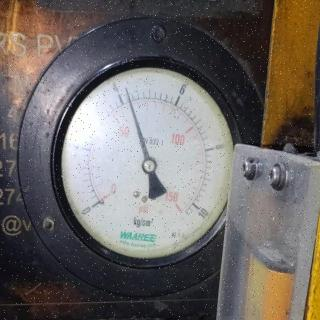gauge: (2, 13, 242, 303), (2, 302, 236, 318), (166, 196, 202, 228), (89, 192, 118, 212), (140, 156, 158, 174), (121, 84, 131, 95)
